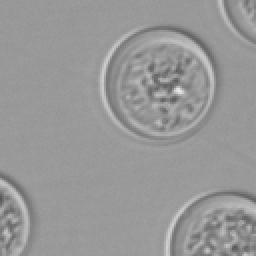picoshell: (98, 26, 216, 144), (164, 190, 254, 254), (0, 174, 30, 256), (216, 0, 256, 47)
